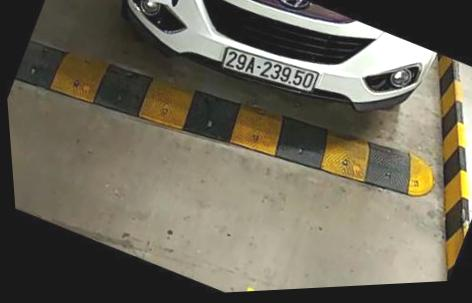License_Plate: (214, 37, 326, 107)
